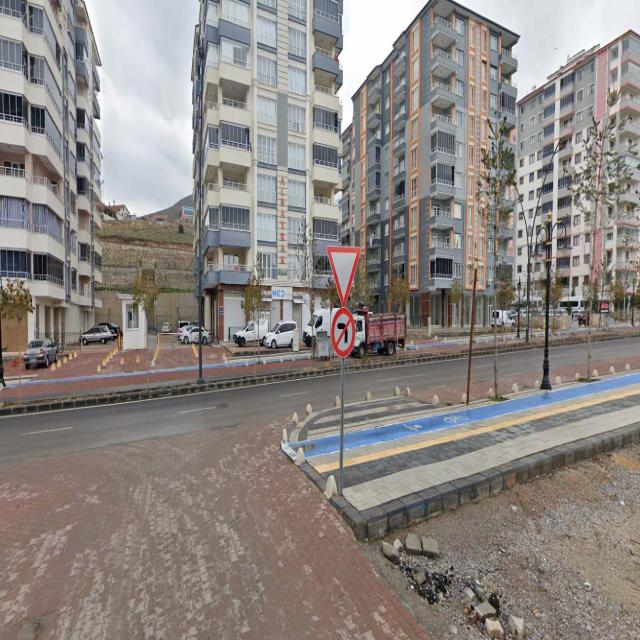soladonulmez: (332, 309, 355, 354)
